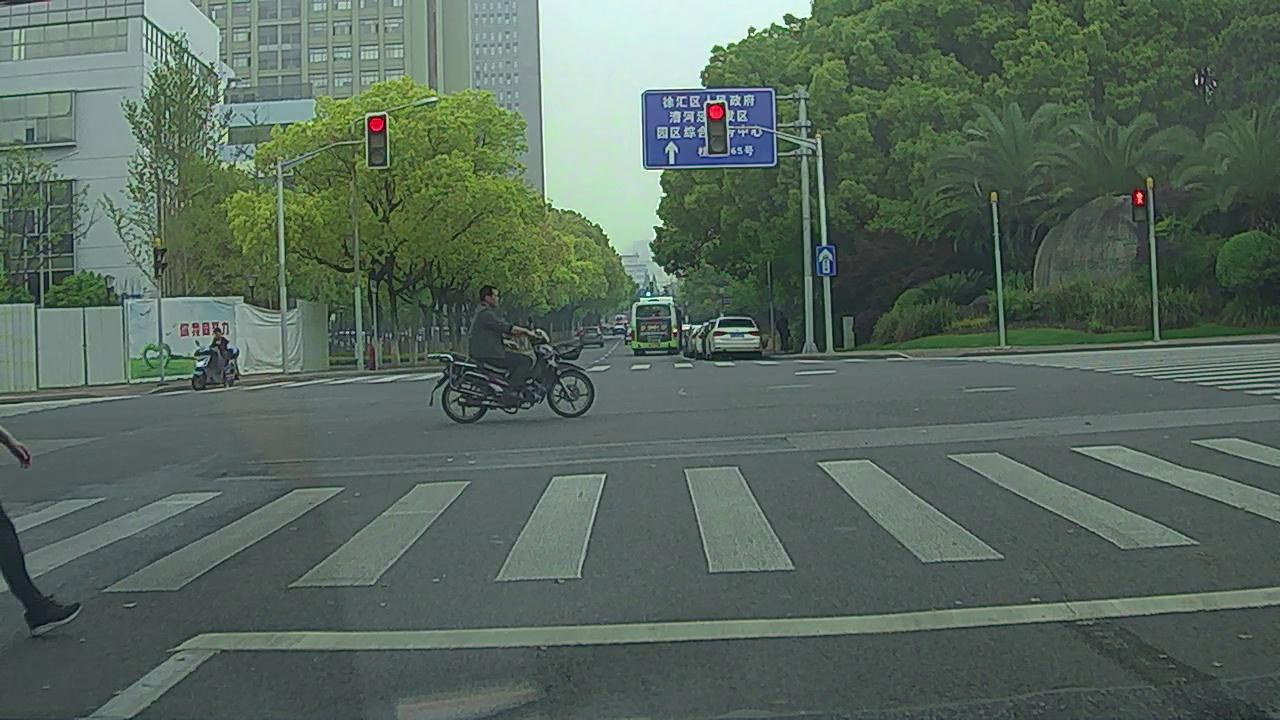traffic_light: (706, 102, 728, 154), (367, 115, 387, 167)
